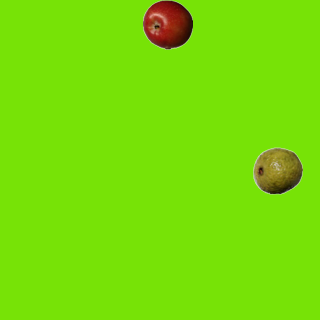Apple Braeburn: (142, 0, 192, 49)
Guava: (252, 145, 302, 195)
